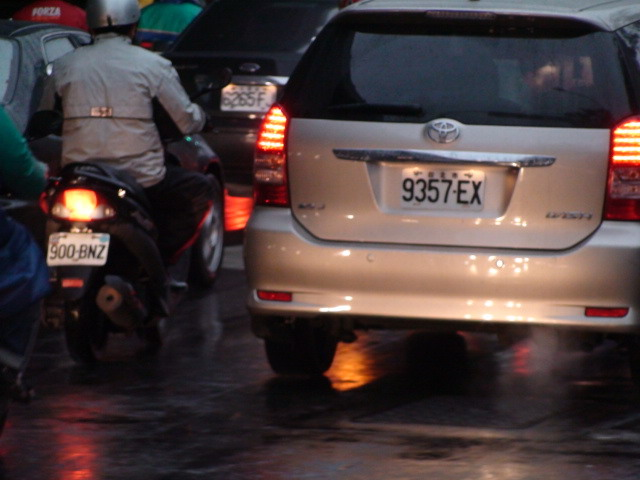plate: (401, 165, 490, 215), (45, 230, 114, 271), (219, 77, 276, 118)
